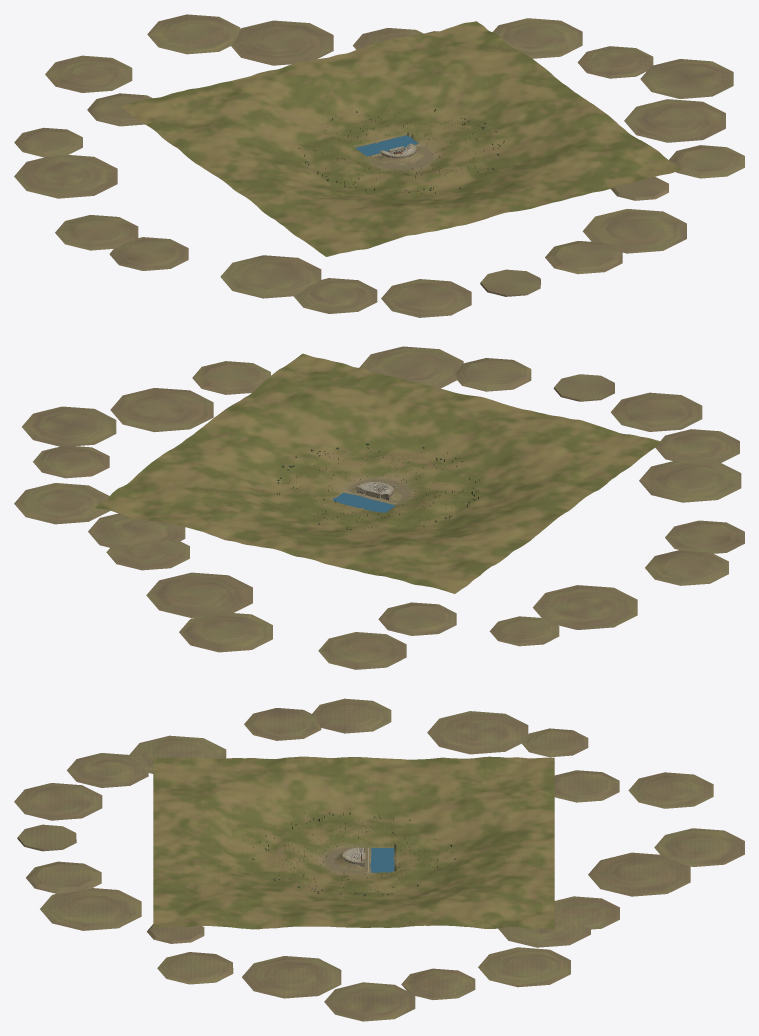
Rendered from milet-buyuk-tiyatro-baked.glb.
3 views of the same model, one above another, from view 1: azimuth 30°, elevation 25°; view 2: azimuth 150°, elevation 25°; view 3: azimuth 270°, elevation 25° (orthographic). The views are drawn at different scales.
Visible parts, largest first — view 1: milet-buyuk-tiyatro-terrain, milet-buyuk-tiyatro-ground, milet-buyuk-tiyatro-near; view 2: milet-buyuk-tiyatro-terrain, milet-buyuk-tiyatro-ground, milet-buyuk-tiyatro-near; view 3: milet-buyuk-tiyatro-terrain, milet-buyuk-tiyatro-ground, milet-buyuk-tiyatro-near.
Part boxes in pixels (x1=…): milet-buyuk-tiyatro-terrain: x1=121, y1=21, x2=681, y2=256; milet-buyuk-tiyatro-ground: x1=14, y1=14, x2=744, y2=317; milet-buyuk-tiyatro-near: x1=368, y1=143, x2=424, y2=165; milet-buyuk-tiyatro-terrain: x1=95, y1=353, x2=662, y2=593; milet-buyuk-tiyatro-ground: x1=14, y1=346, x2=744, y2=669; milet-buyuk-tiyatro-near: x1=345, y1=481, x2=402, y2=503; milet-buyuk-tiyatro-terrain: x1=153, y1=756, x2=554, y2=929; milet-buyuk-tiyatro-ground: x1=14, y1=698, x2=744, y2=1021; milet-buyuk-tiyatro-near: x1=334, y1=847, x2=368, y2=872.
Bounding box in the file's own units: 3002 × 91.33 × 2872.
27 materials, 18 textured.
